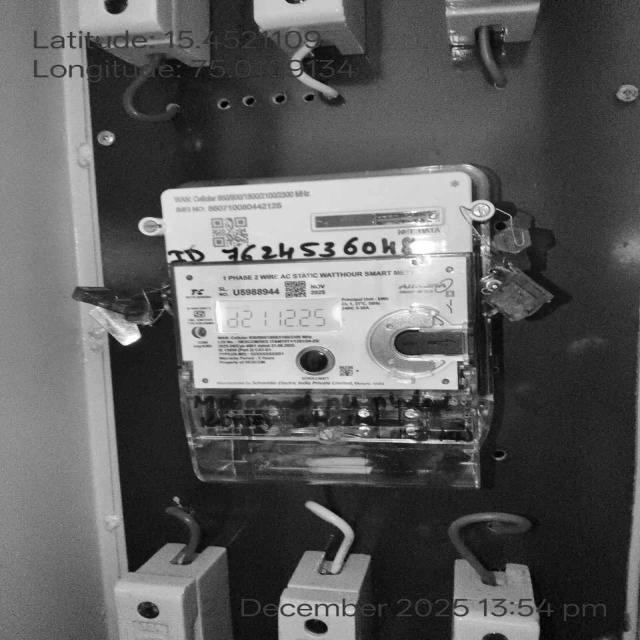meter: (164, 175, 483, 390)
